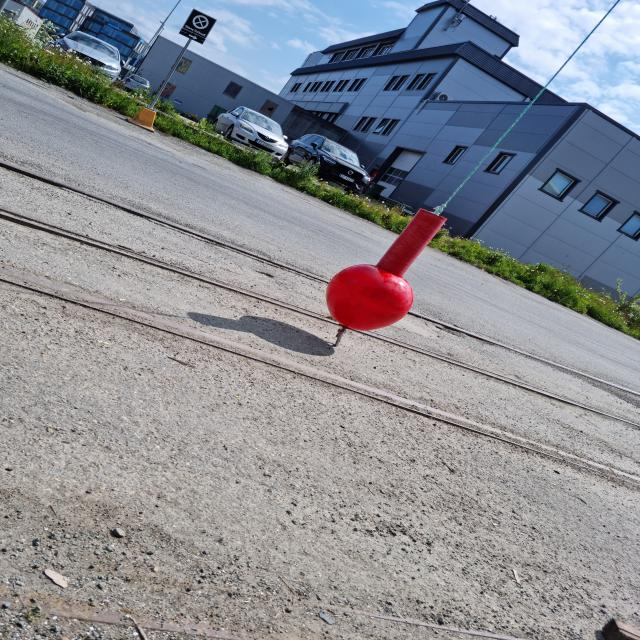red: (328, 208, 446, 331)
